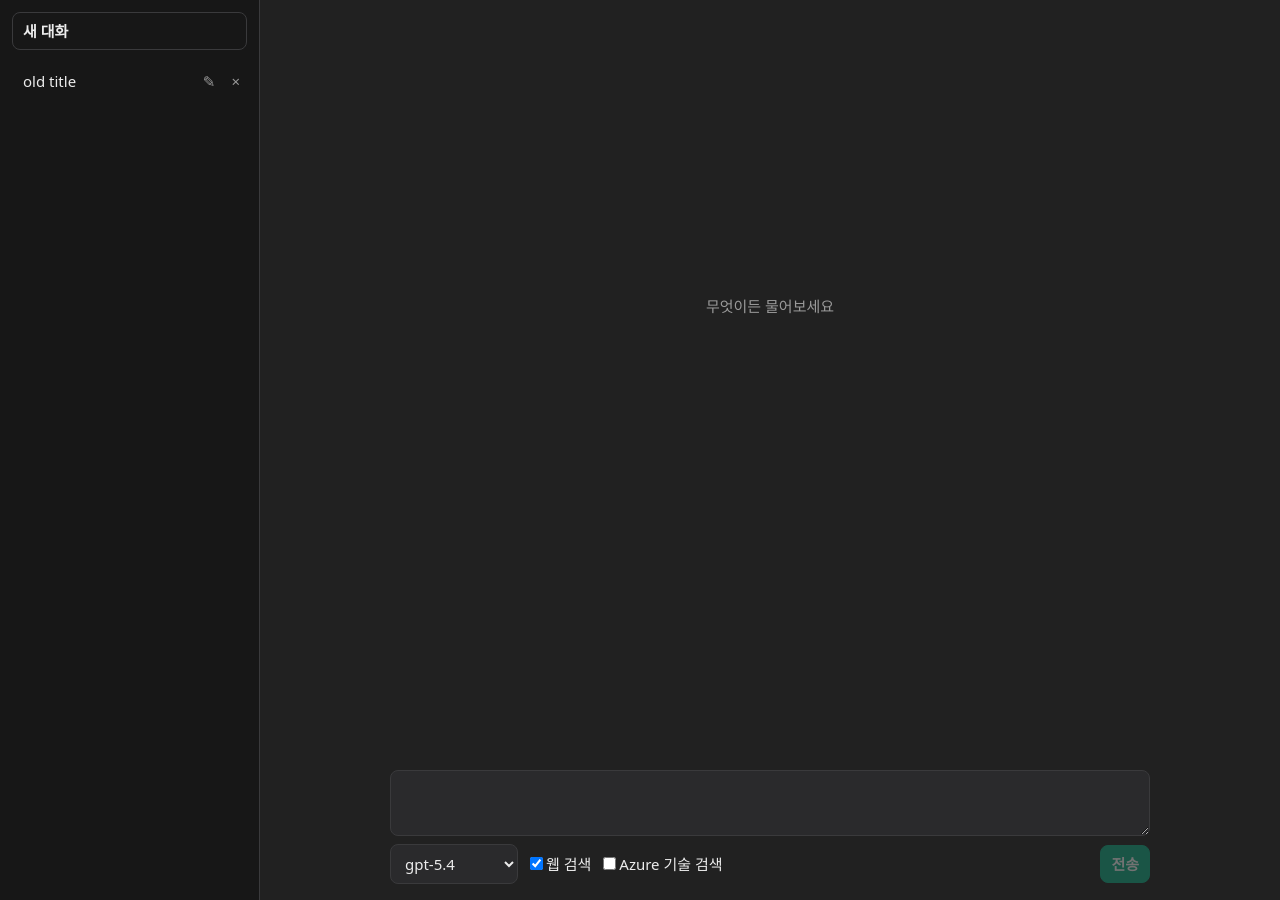
Scenario: renames a conversation via inline edit
This screenshot has width=1280, height=900.
Expected: the button "old title" is shown, [12,62,194,100]
Click the button named "이름 변경 old title": (209, 81) [196,62,222,100]
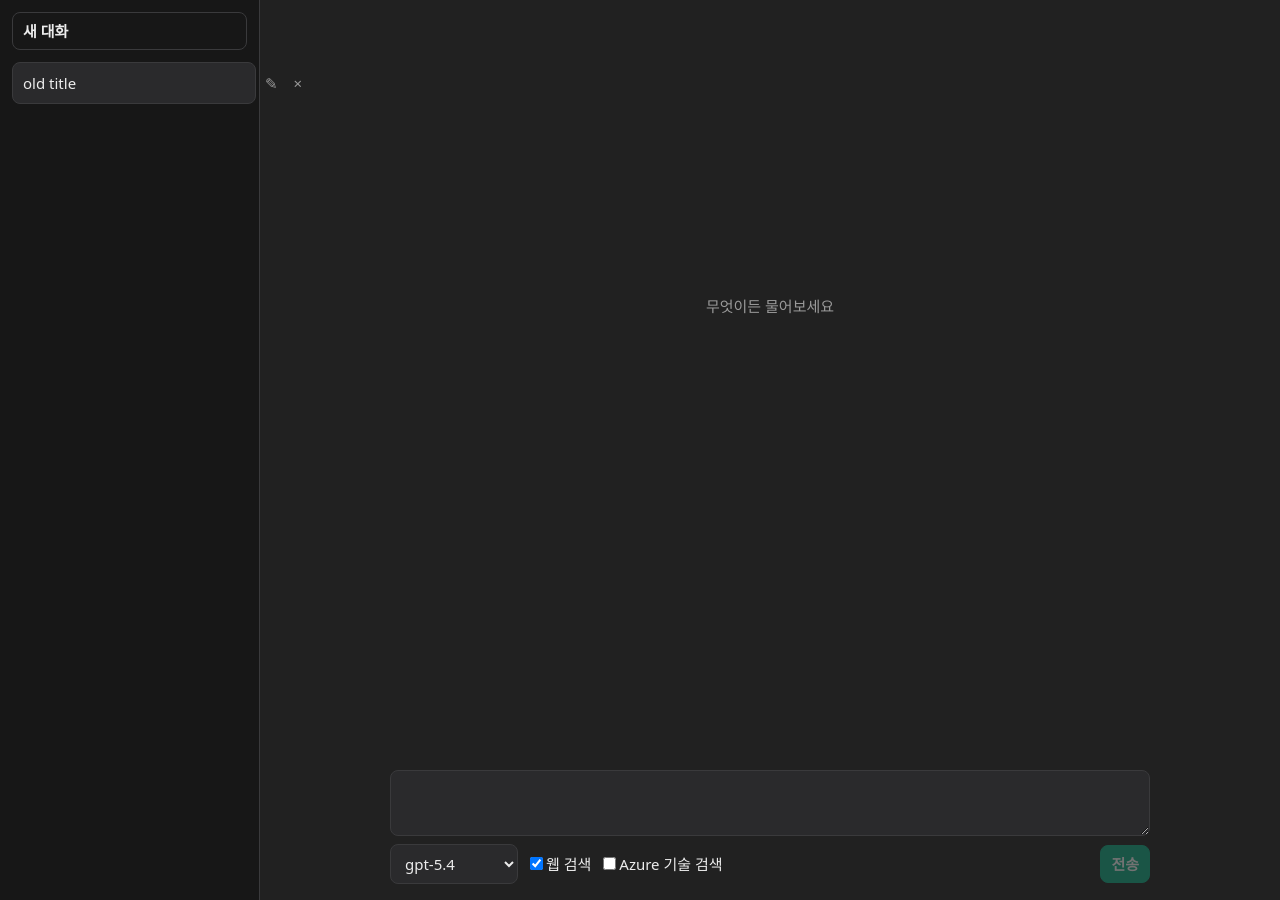
Replace the text in the field showing "old title" with "new title": (134, 83) [12,62,256,104]
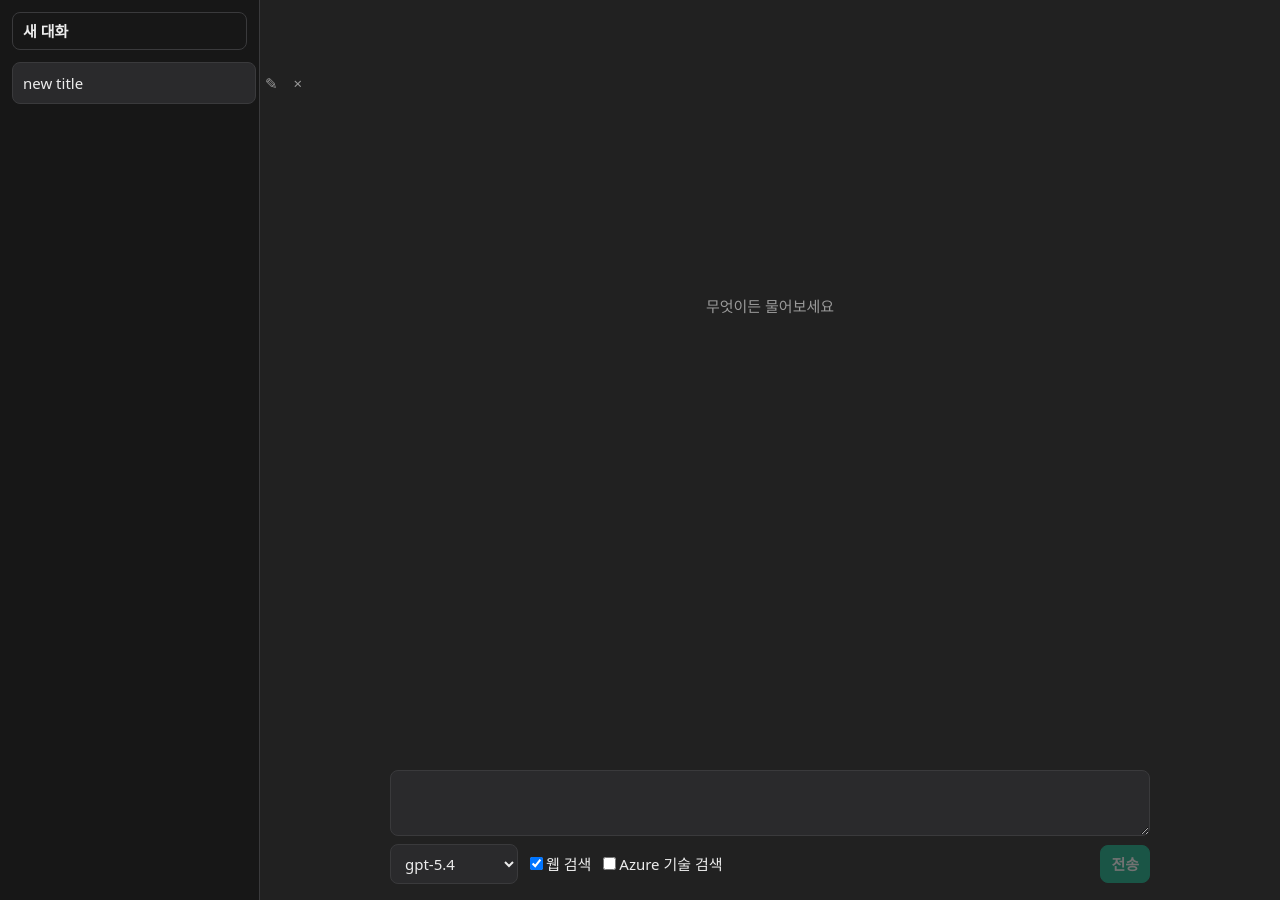
Submit the form from the field showing "old title", box [12,62,256,104]
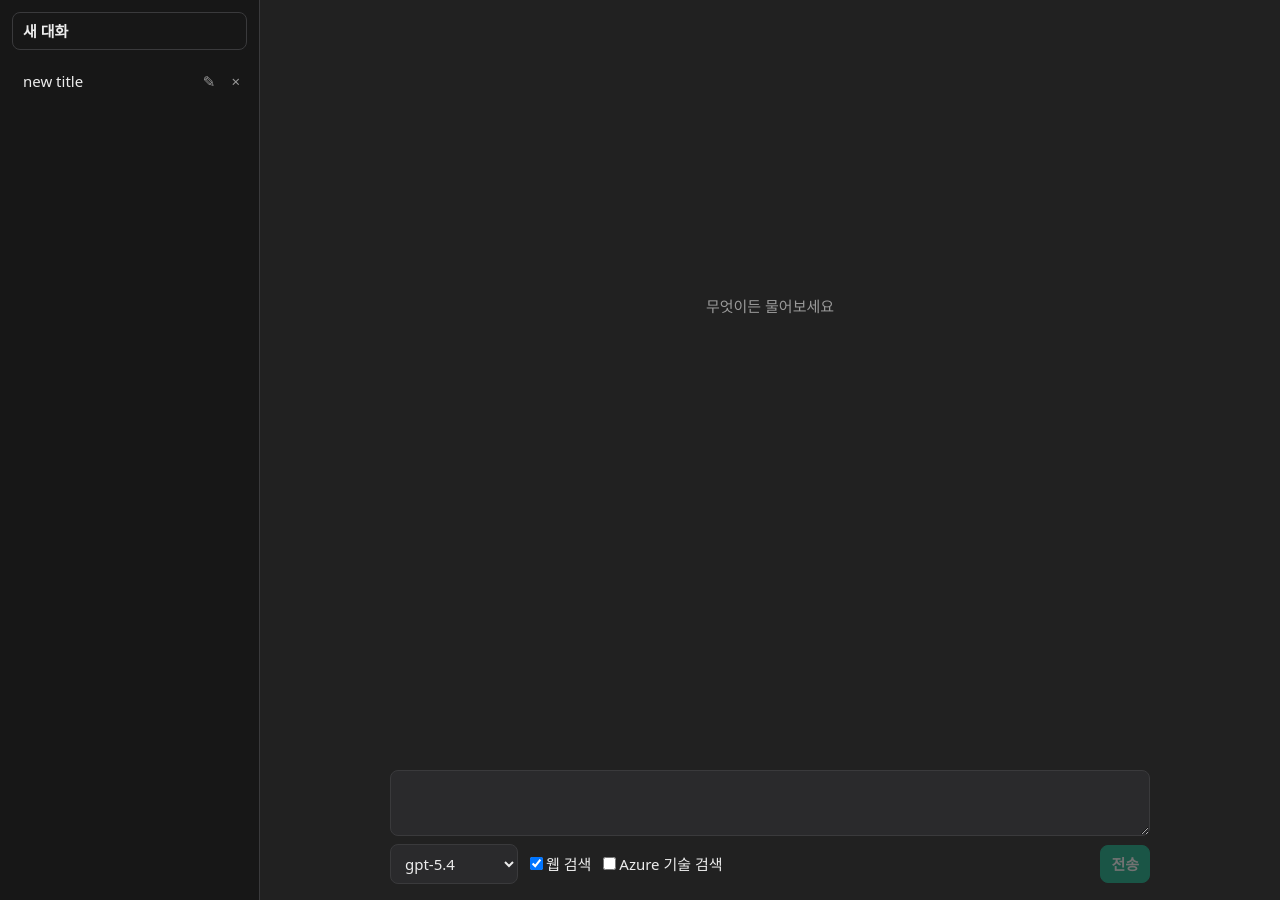
Expected: the button "new title" is shown, [12,62,194,100]
